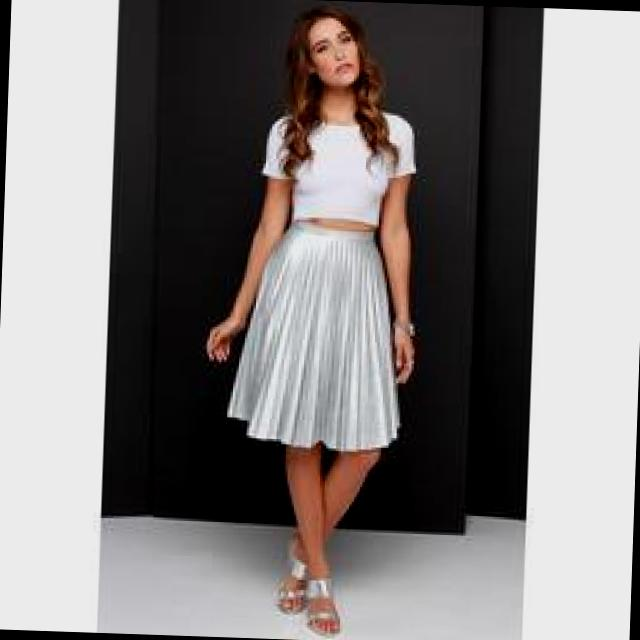Tshirt: (251, 106, 415, 230)
skirt: (224, 223, 407, 454)
